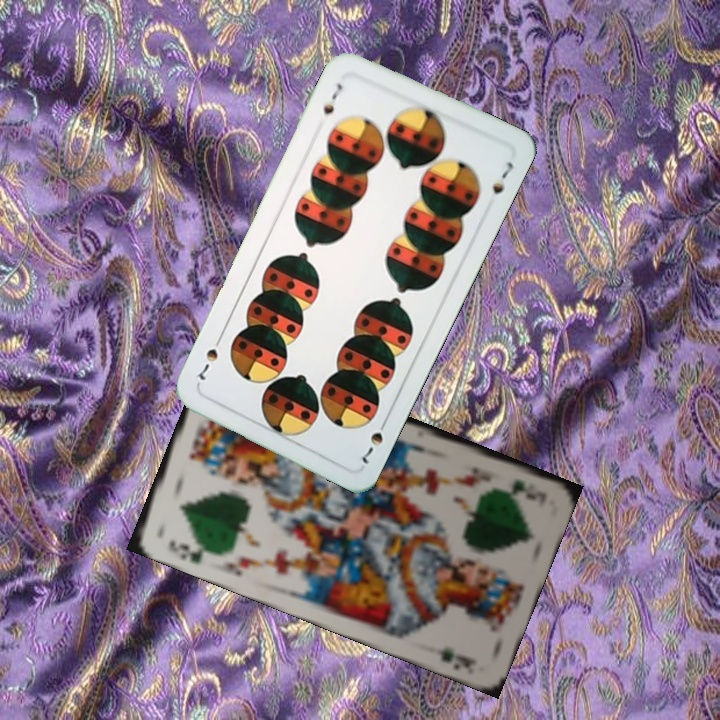GK: (164, 536, 216, 566), (507, 476, 540, 503)
S7: (357, 413, 391, 467), (318, 79, 346, 119)
